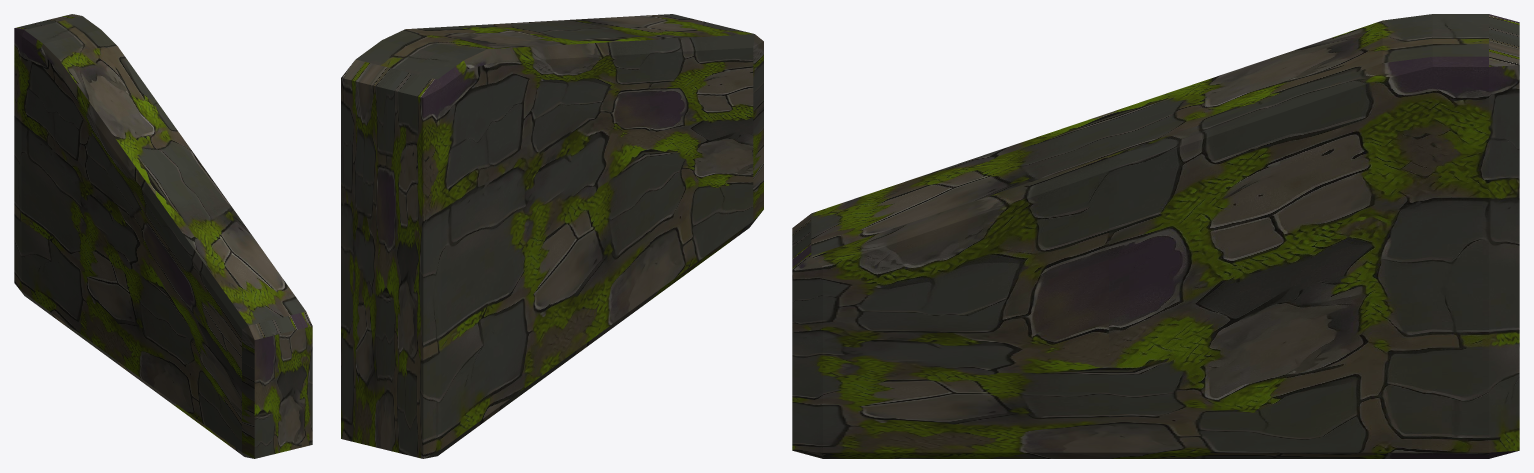
File: stiars part 4 .fbx
3 renders of one model, left to right at view 1: azimuth 30°, elevation 25°; view 2: azimuth 150°, elevation 25°; view 3: azimuth 270°, elevation 25°, orthographic. The views are drawn at different scales.
Parts seen in each view (by area): view 1: Cube.003; view 2: Cube.003; view 3: Cube.003.
Boxes of the visible parts, <box> form: Cube.003: <box>14,14,312,458</box>; Cube.003: <box>341,14,763,458</box>; Cube.003: <box>792,14,1519,458</box>.
Size of the model in its own units: 30.4 by 122 by 200.
